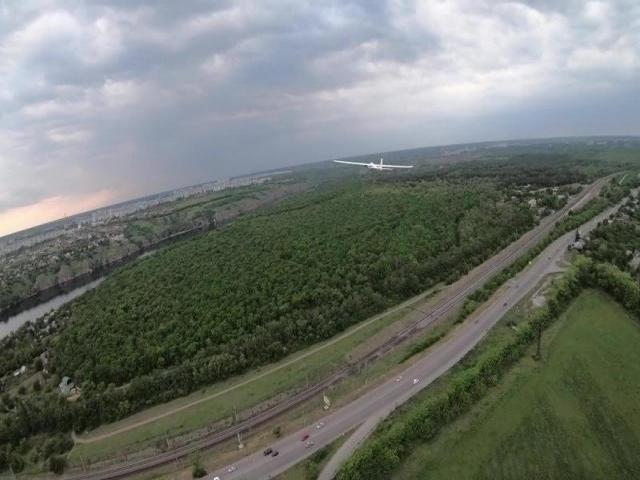hedef: (331, 154, 420, 178)
